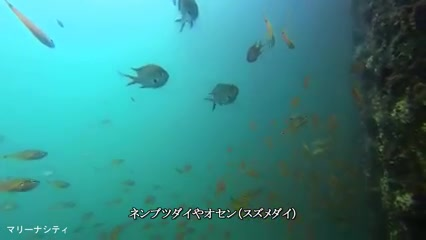mezina: (122, 60, 176, 98), (200, 73, 244, 117)
smallfish: (241, 38, 270, 65)
